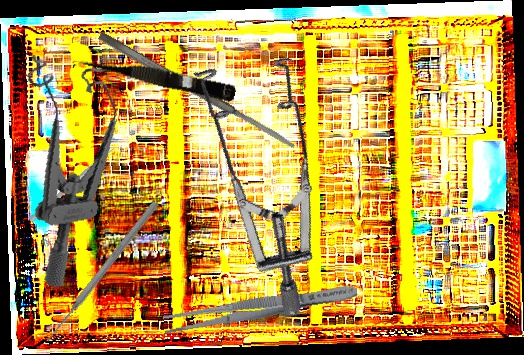Dressing Forceps: (161, 278, 360, 338)
Micro Scissor: (75, 49, 238, 103)
Pusher: (44, 199, 160, 344), (28, 145, 116, 224)
Spatula Surgical: (97, 29, 297, 153)
Speculum: (123, 27, 387, 317), (8, 42, 146, 290)
